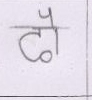ai_matra: (39, 7, 59, 26)
